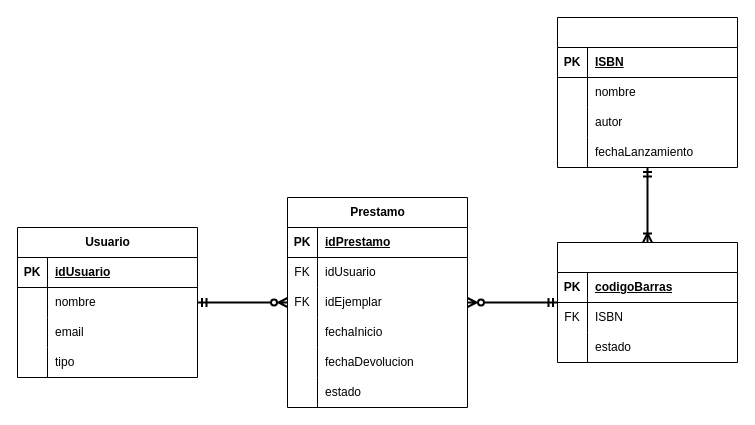
The diagram is 755 pixels wide and 425 high, and some of its shapes have lost their labels. The shapes that lost their labels are listed below. From the top down, each one's box as (x1, y1, x2, y2) in pixels, then its label:
(556, 16, 738, 168): Libro
(556, 242, 738, 362): Ejemplar
